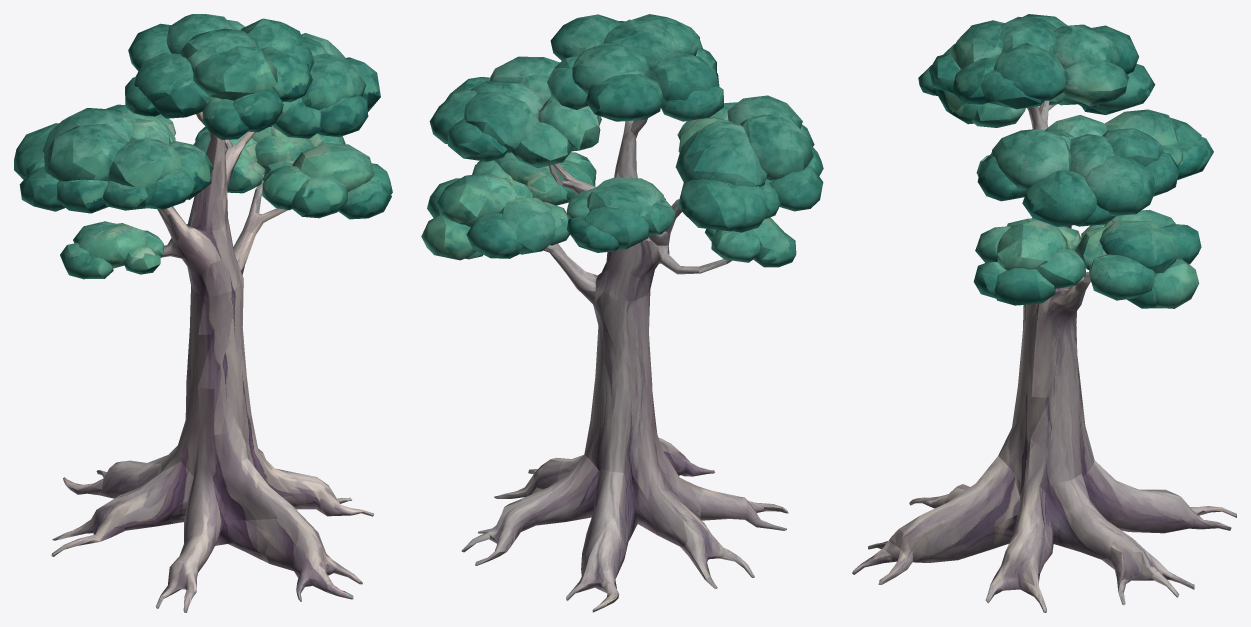
File: tree.glb
3 renders of one model, left to right at view 1: azimuth 30°, elevation 25°; view 2: azimuth 150°, elevation 25°; view 3: azimuth 270°, elevation 25°, orthographic. The views are drawn at different scales.
Visible parts, largest first — view 1: material-0; view 2: material-0; view 3: material-0.
Boxes of the visible parts, left/top/right/bottom form: material-0: left=14, top=14, right=392, bottom=612; material-0: left=421, top=14, right=823, bottom=612; material-0: left=852, top=14, right=1236, bottom=612.
Size of the model in its own units: 13.25 by 18 by 11.85.
1 material, 1 textured.
